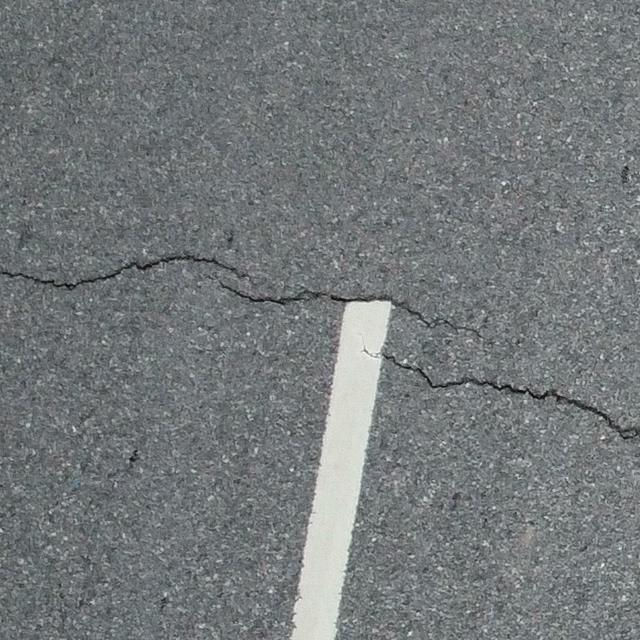TransverseCrack: (1, 253, 489, 342), (364, 346, 640, 441)
